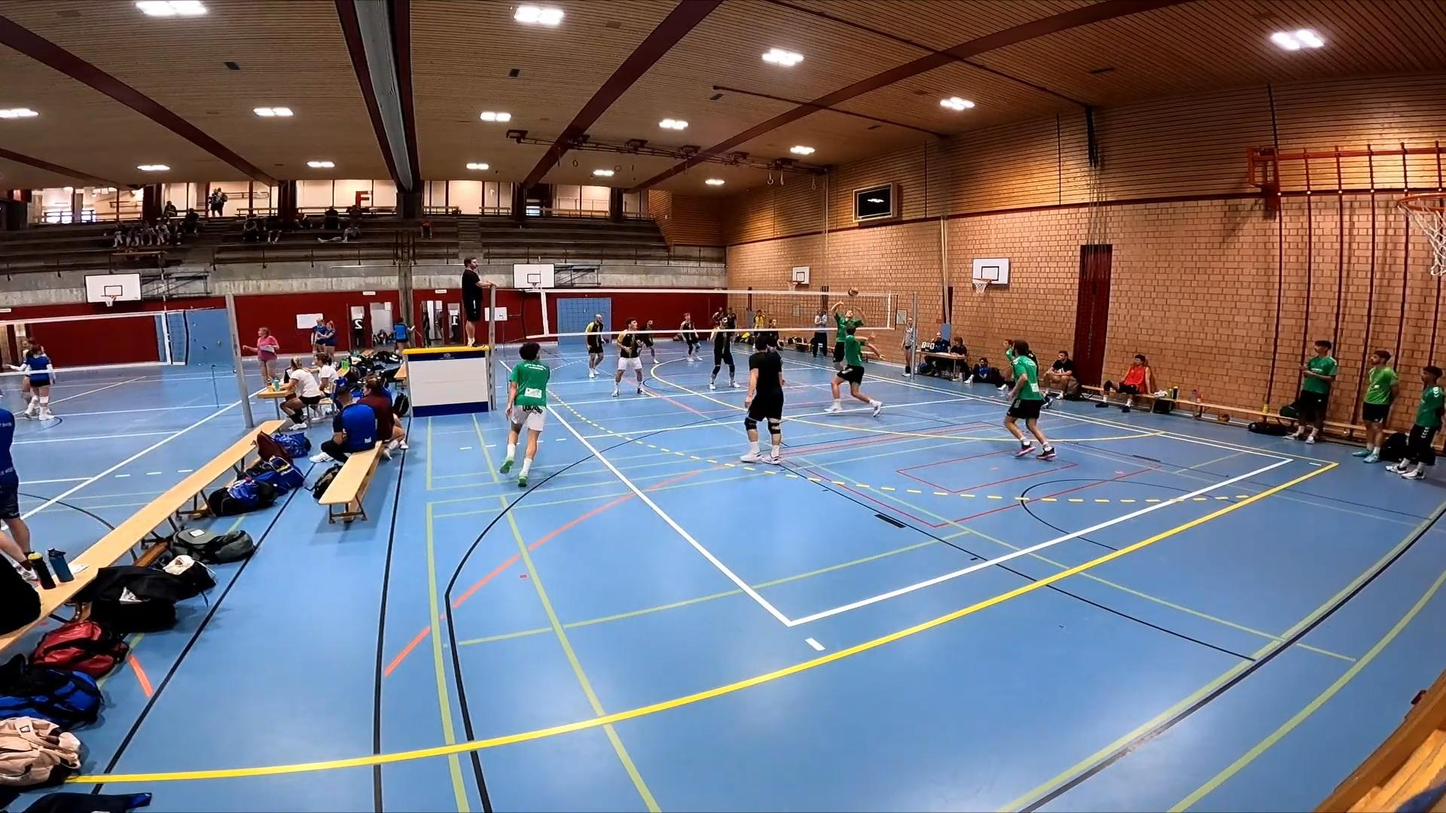Player: (500, 342, 549, 486), (1005, 340, 1055, 460), (741, 336, 784, 464), (825, 324, 882, 416), (612, 319, 642, 397), (709, 317, 737, 388), (584, 314, 602, 378), (679, 312, 700, 361), (639, 319, 657, 364)
Set: (829, 298, 866, 354)
ball: (846, 285, 861, 300)
